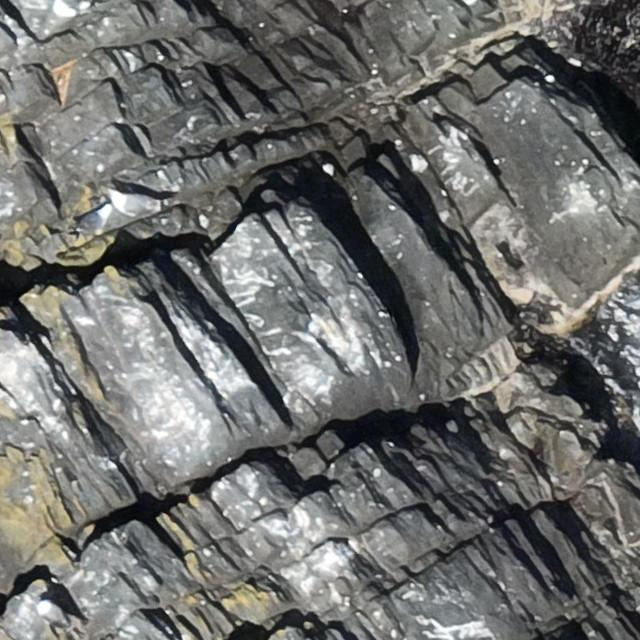umineko: (109, 190, 166, 217), (74, 204, 110, 236), (40, 602, 62, 624)
